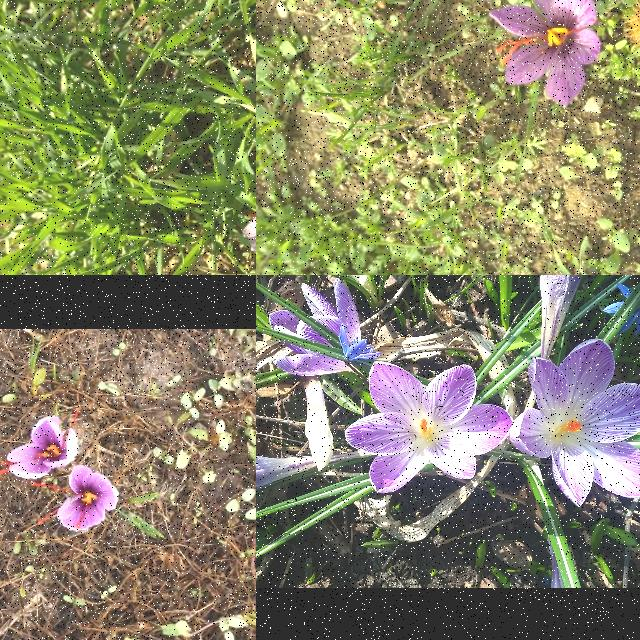flower: (488, 0, 602, 108), (30, 466, 120, 532), (0, 407, 80, 479)
